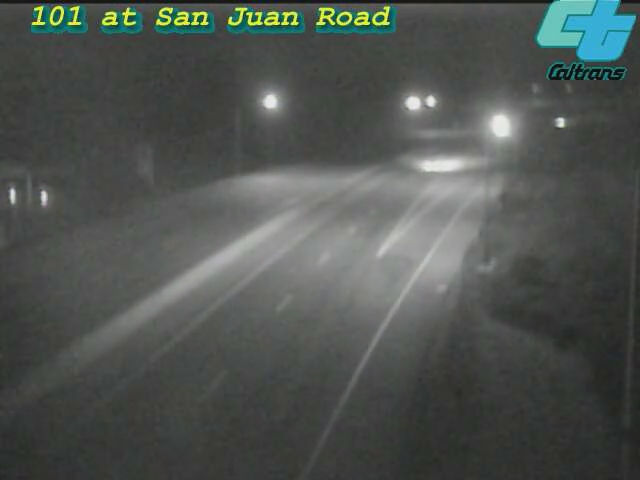vehicle: (401, 123, 481, 203), (536, 98, 586, 148), (470, 102, 520, 152)
